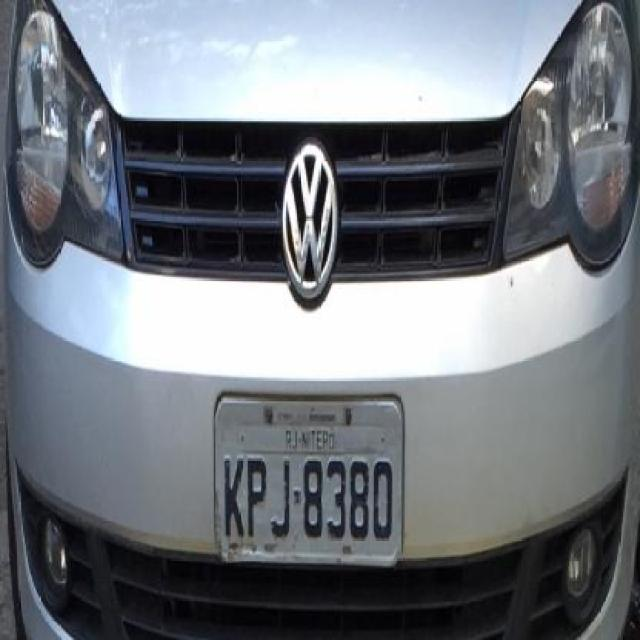old_plate: (211, 391, 409, 570)
